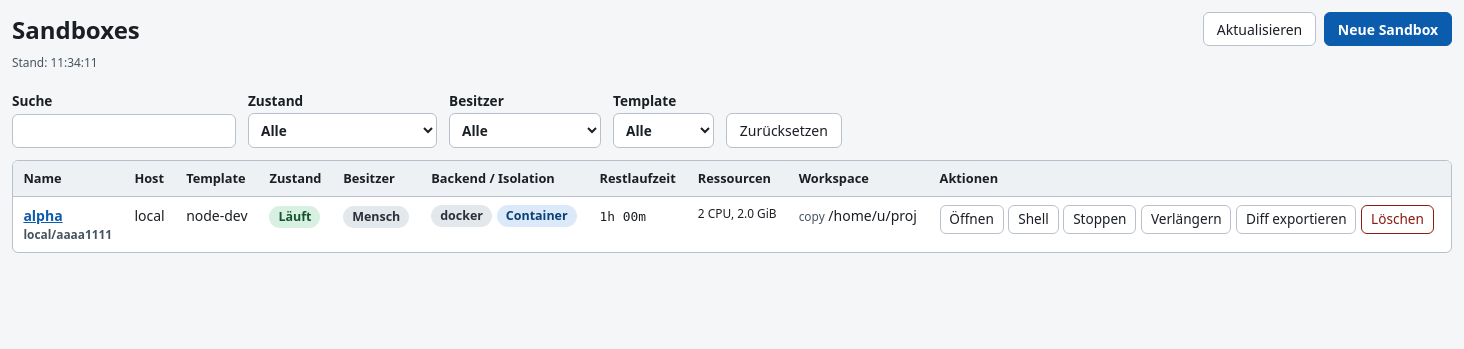
Test: Sandboxes view: freshness and shell › marks the list as outdated when it could not be refreshed
Expected: the text "alpha" is shown, [23, 206, 63, 225]
Expected: the text "veraltet" is not shown
Step 1. Click the button "Aktualisieren" → (1260, 29), box [1203, 12, 1316, 46]
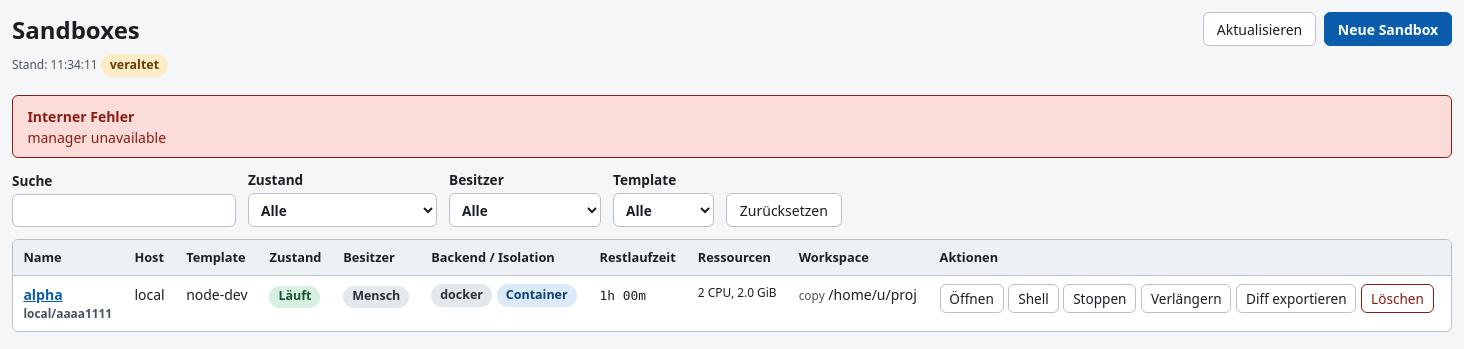
Expected: the text "alpha" is shown, [23, 285, 63, 304]
Result: the text "veraltet" is shown at [101, 54, 168, 77]
